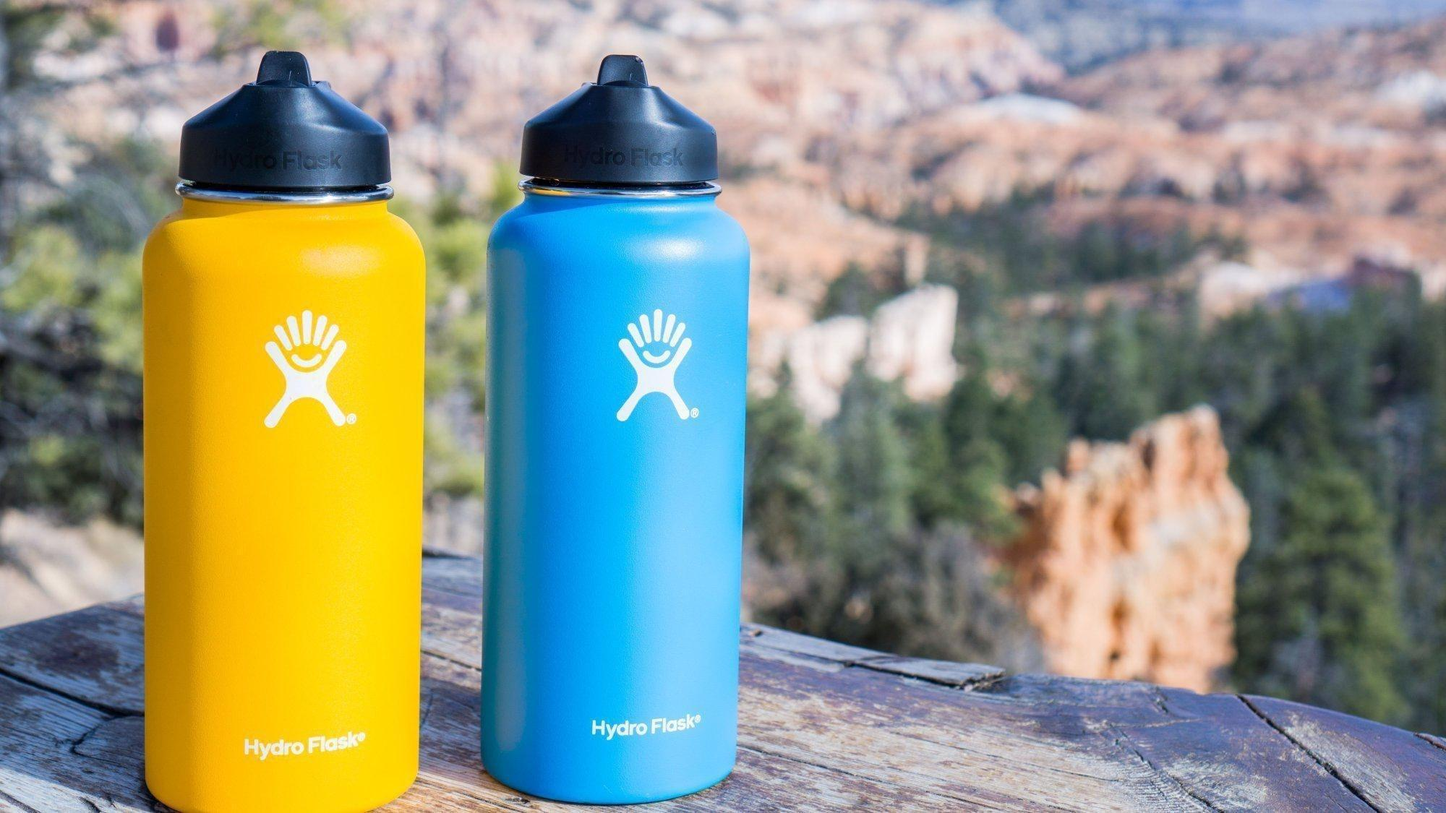gym bottle: (134, 42, 433, 812), (473, 46, 754, 810)
